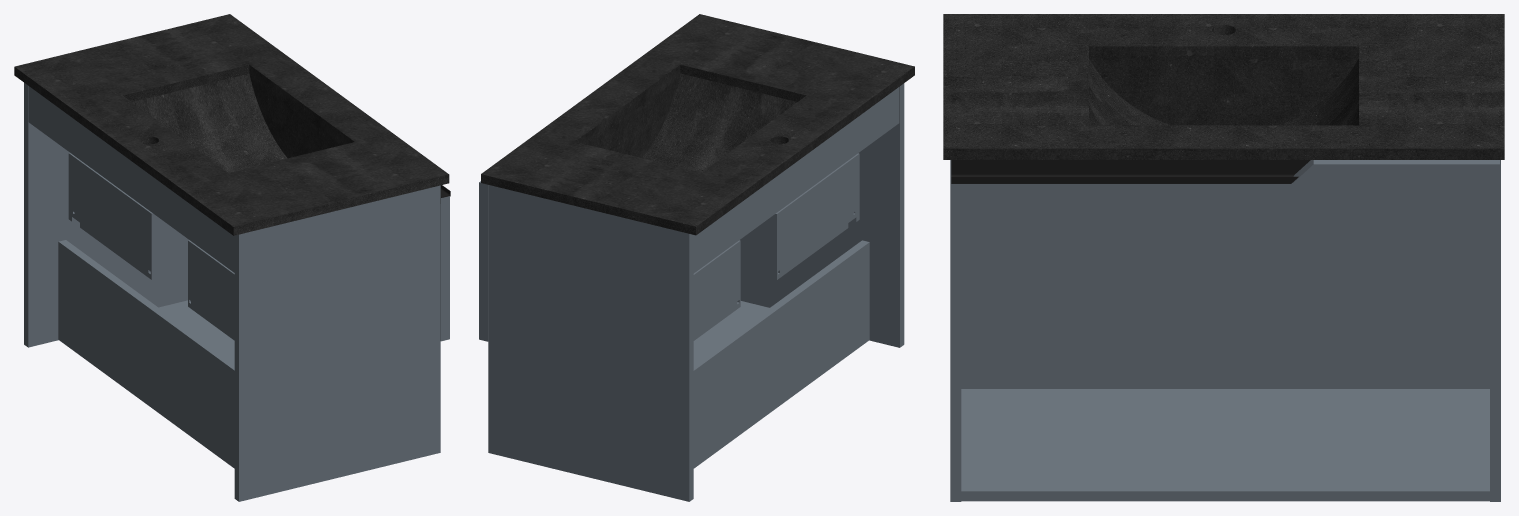
Rendered from Lavabo_100.glb.
3 renders of one model, left to right at view 1: azimuth 30°, elevation 25°; view 2: azimuth 150°, elevation 25°; view 3: azimuth 270°, elevation 25°, orthographic. The views are drawn at different scales.
Visible parts, largest first — view 1: Mueble1:BRep_2; view 2: Mueble1:BRep_2; view 3: Mueble1:BRep_2.
Boxes of the visible parts, bbox=[...] form: Mueble1:BRep_2: bbox=[14, 14, 450, 501]; Mueble1:BRep_2: bbox=[479, 14, 914, 501]; Mueble1:BRep_2: bbox=[943, 14, 1504, 501].
Bounding box in the file's own units: 0.4697 × 0.5683 × 0.81.
Materials: 3 (2 with a texture image).
